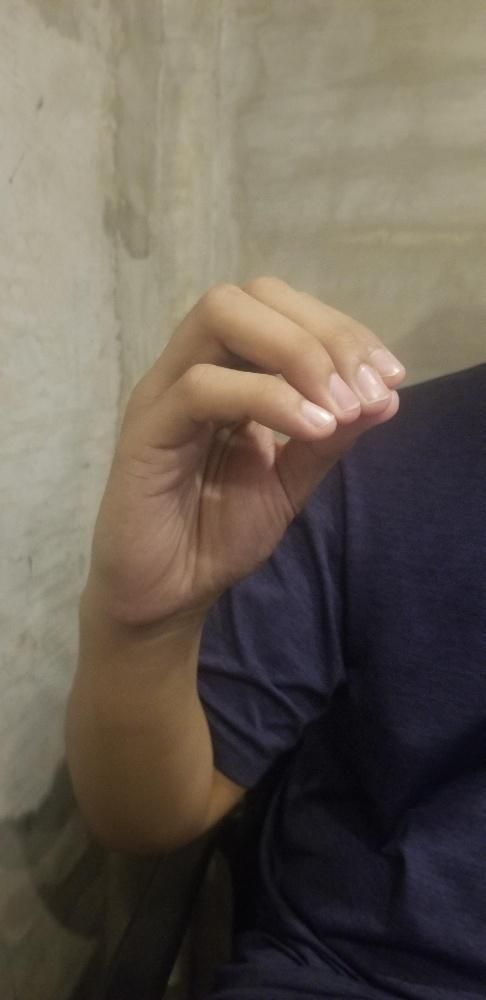o: (97, 273, 406, 619)
